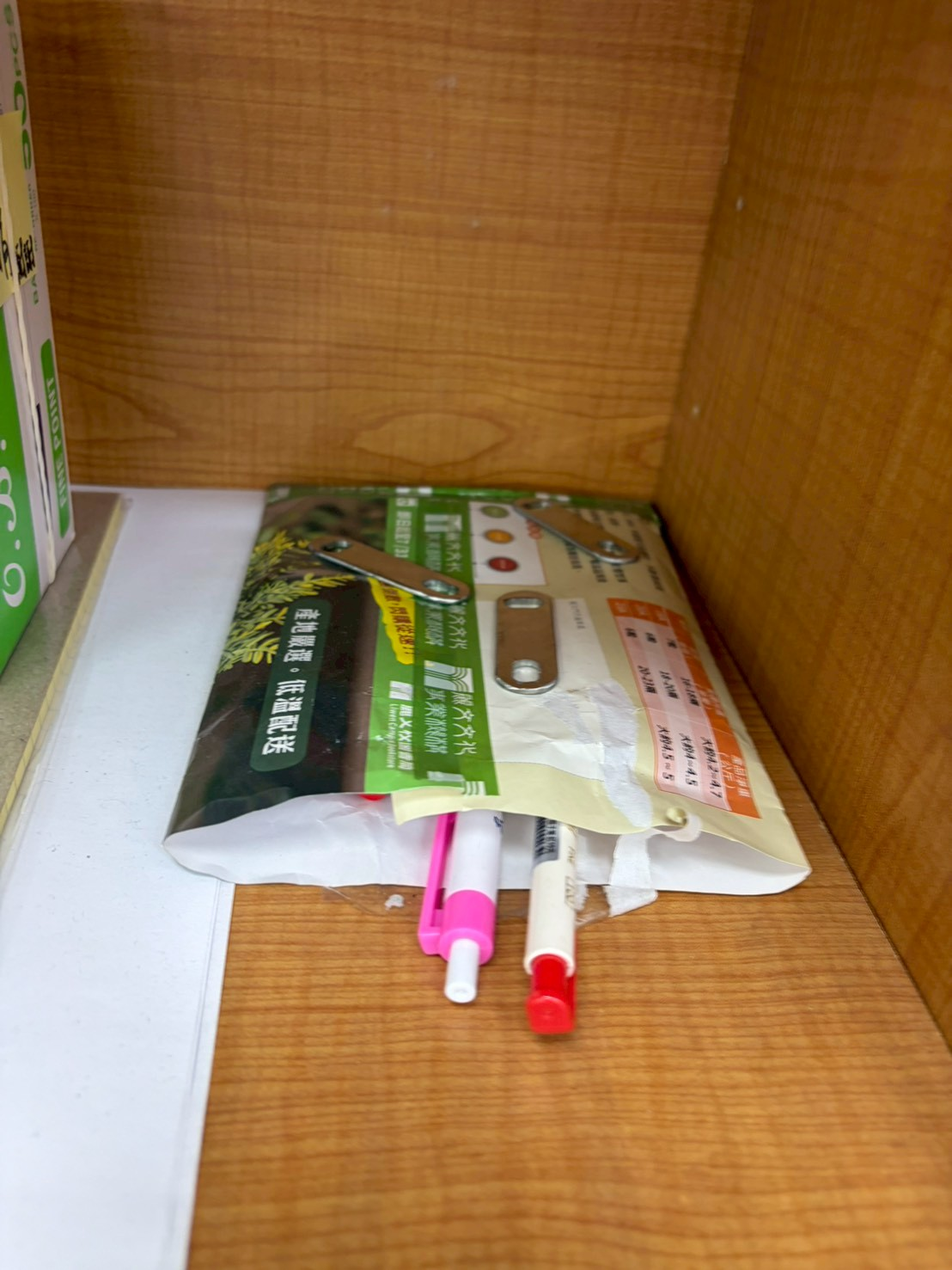Fe: (303, 510, 453, 606), (504, 475, 641, 567), (474, 576, 566, 696)
